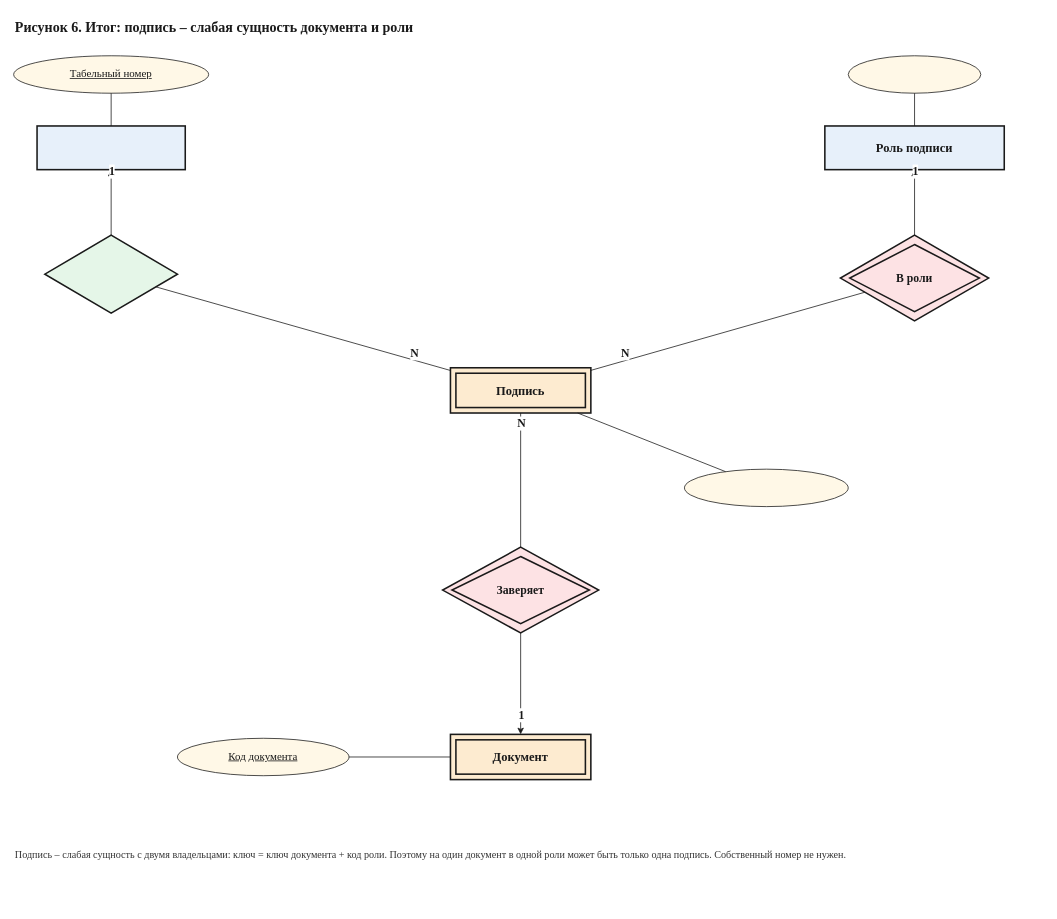
This 1057x919 diagram has some shape labels left out. Each missing label, with the centre of its shape:
Дата подписи: point 766,487
Код роли: point 914,74
Сотрудник: point 111,147
Ставит: point 111,274
